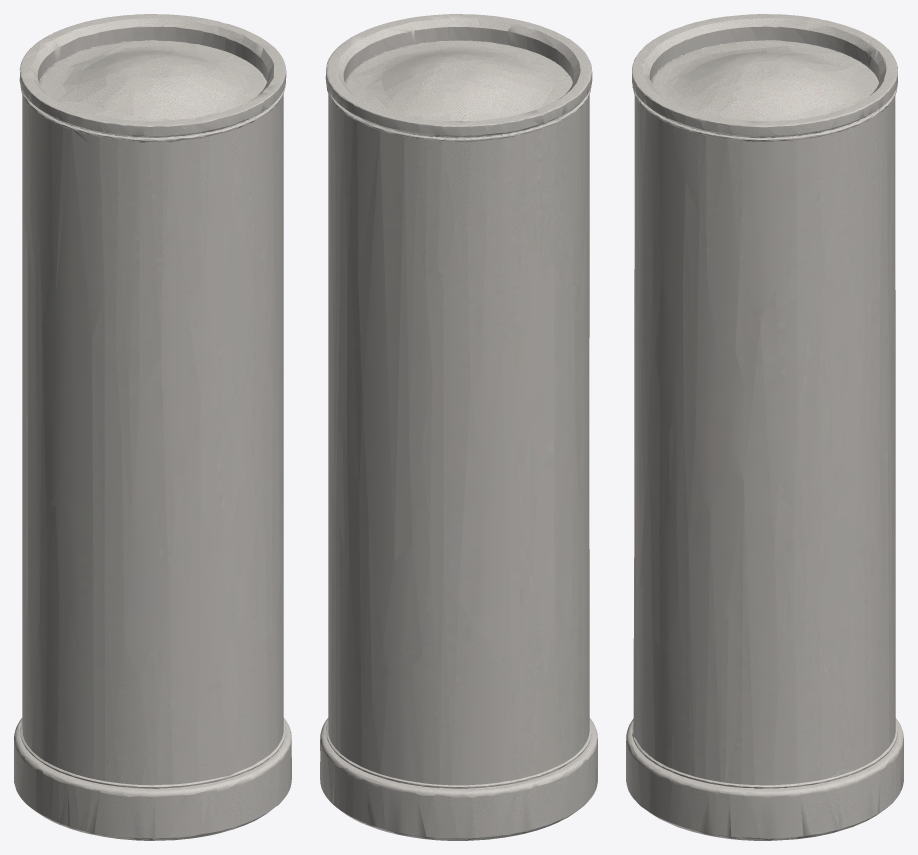
The model's file is terracoUrn.glb.
The picture shows the model from 3 angles, left to right: view 1: azimuth 30°, elevation 25°; view 2: azimuth 150°, elevation 25°; view 3: azimuth 270°, elevation 25°; orthographic projection.
Size of the model in its own units: 0.6708 by 1.9 by 0.6701.
1 material, 1 textured.
